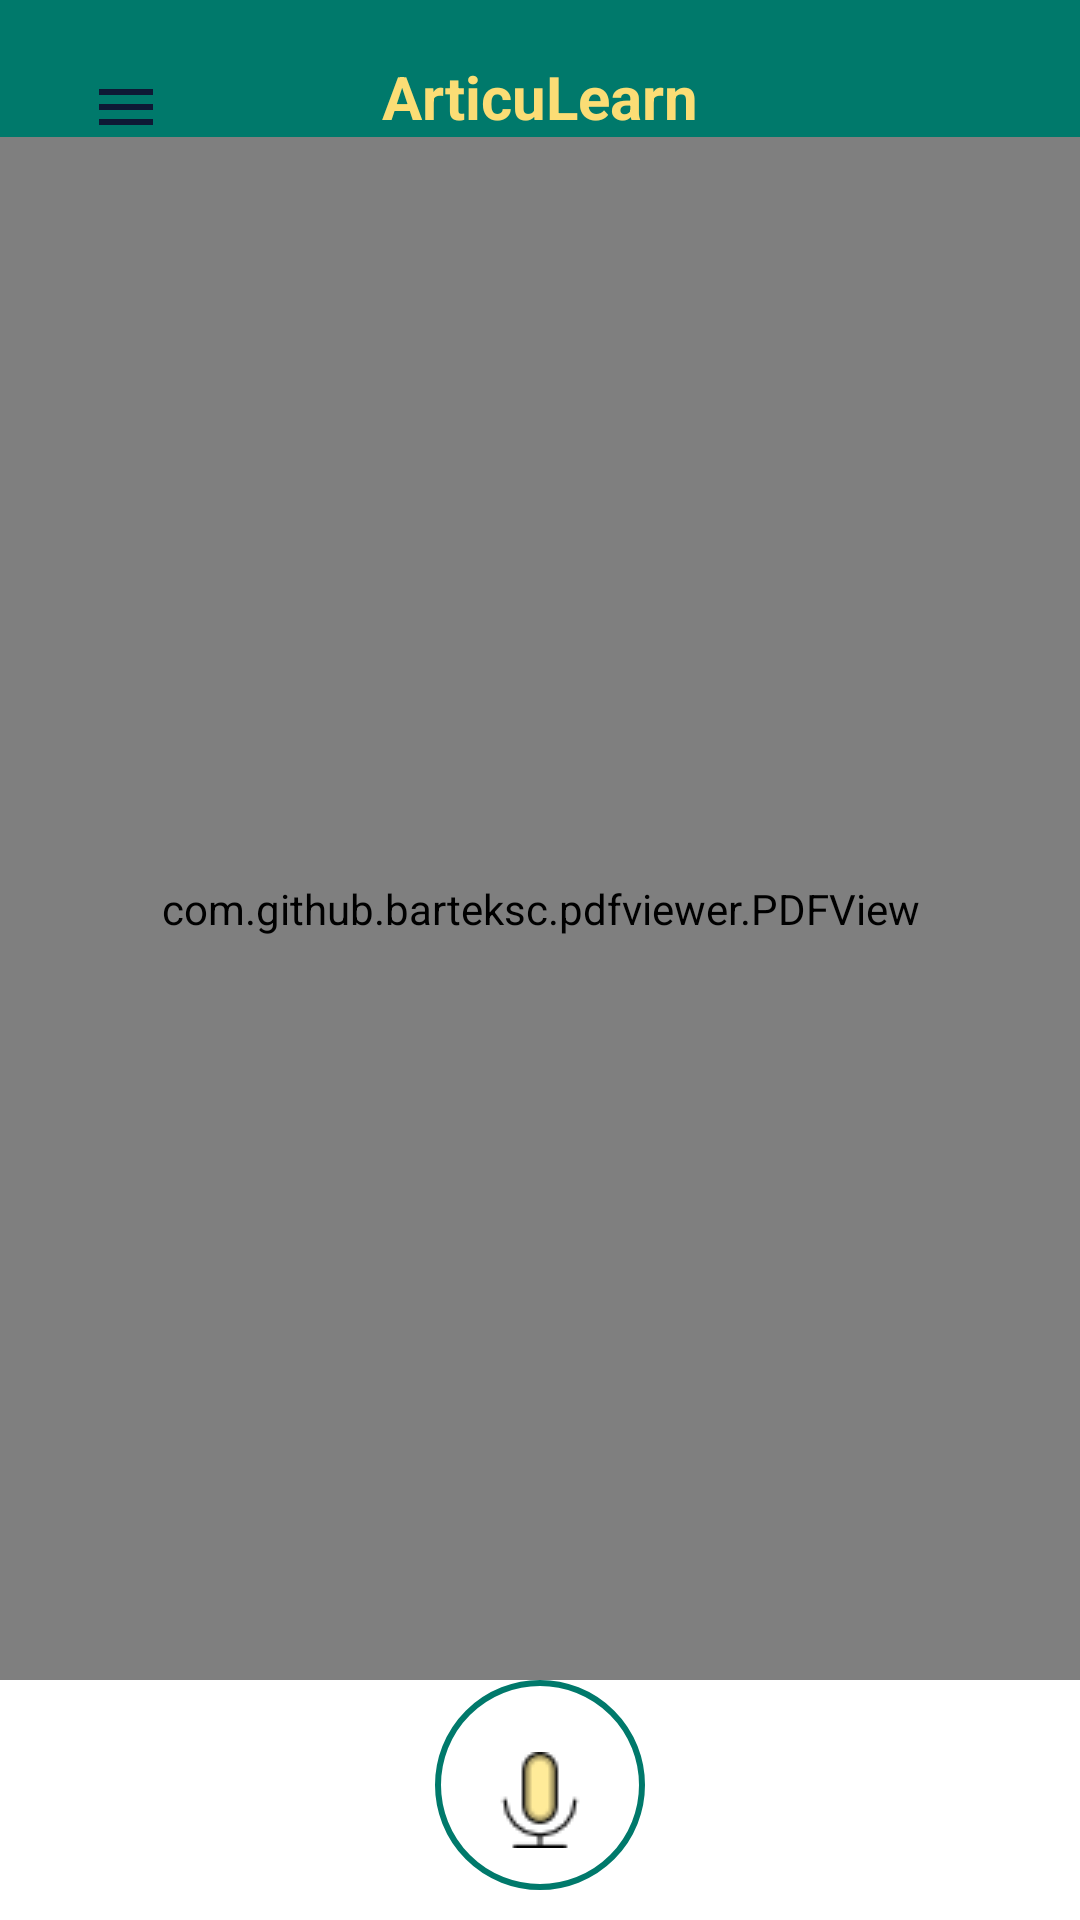

Icon bounding boxes for this 1080 x 1920 phone screenshot, format (x1, y1, x2, y2):
menu: (99, 89, 153, 125)
Microphone Button: (435, 1680, 645, 1890)
